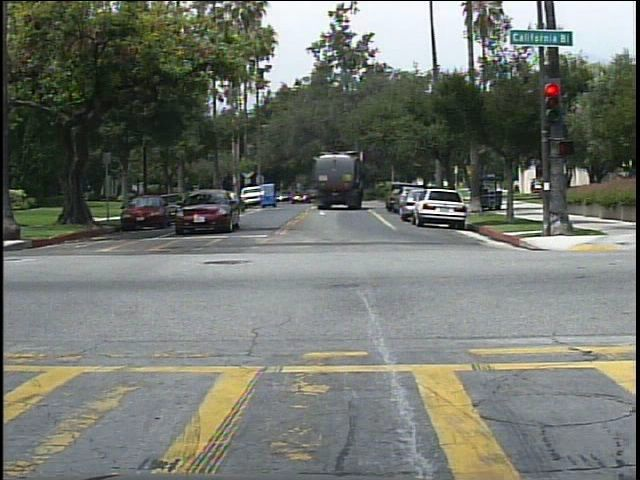person: (511, 179, 524, 198)
